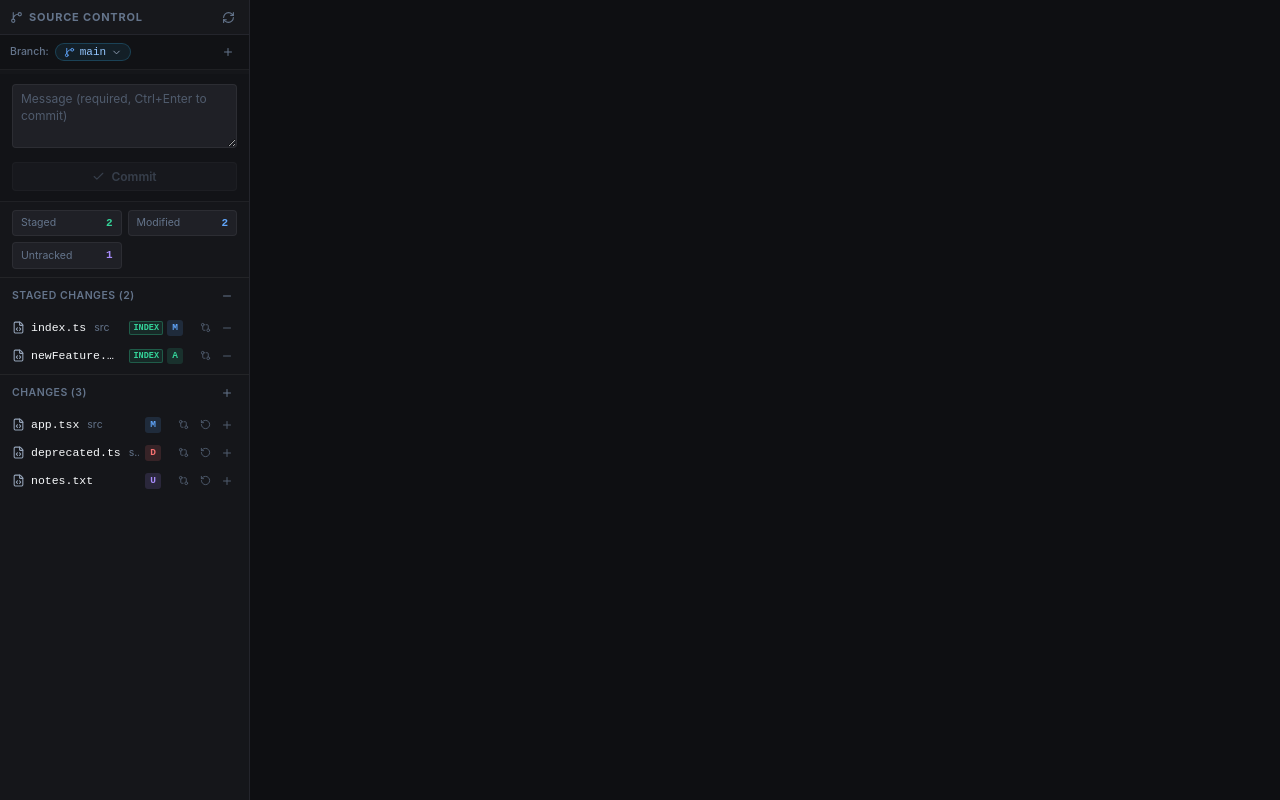
SourceControl Component Tests › Group 4: Discard Changes Modal › opens discard confirmation dialog when discard button is clicked on an unstaged file
Click the button named "Discard changes in src/app.tsx": [205, 425] box 195,415 -> 215,435
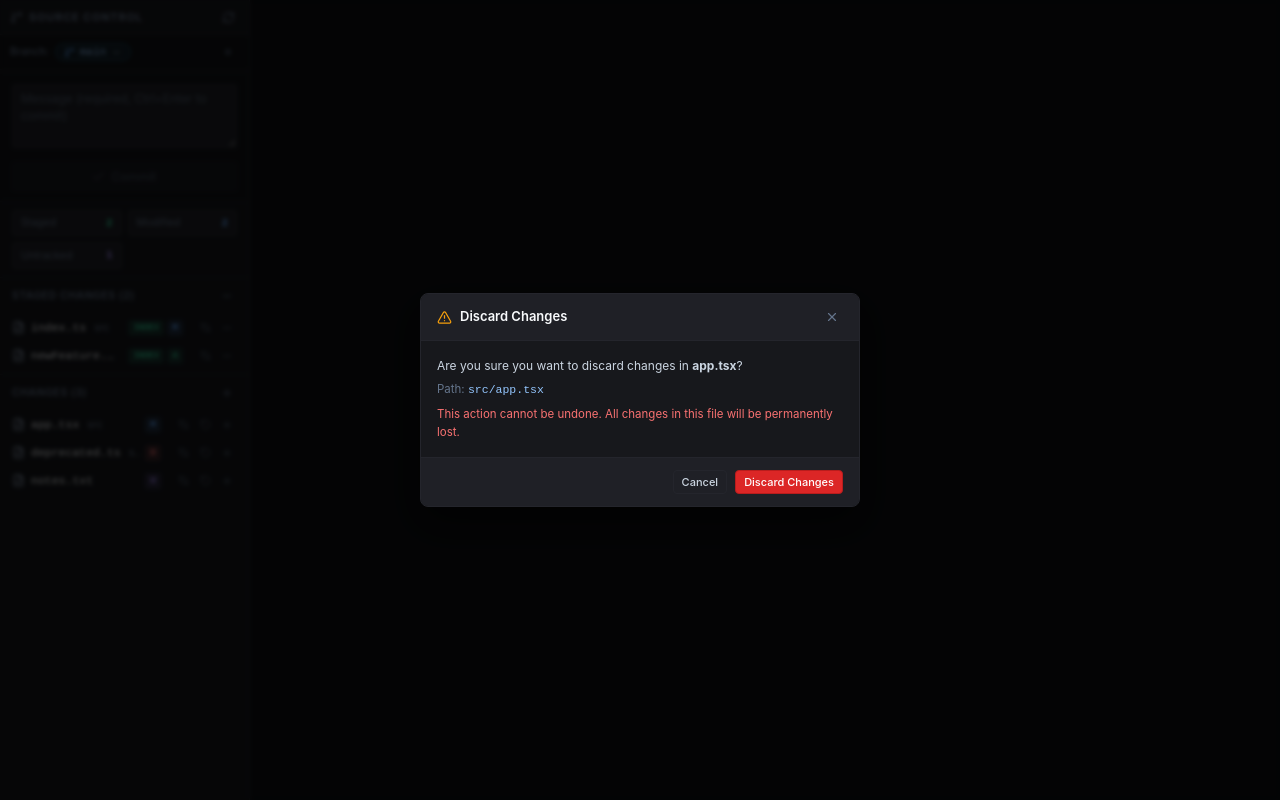
expect the dialog is shown: met, box 420,293 -> 860,507
expect the button "Discard Changes" is shown: met, box 735,470 -> 843,494
expect the text "Are you sure you want to discard changes in app.tsx?" is shown: met, box 437,358 -> 743,373
